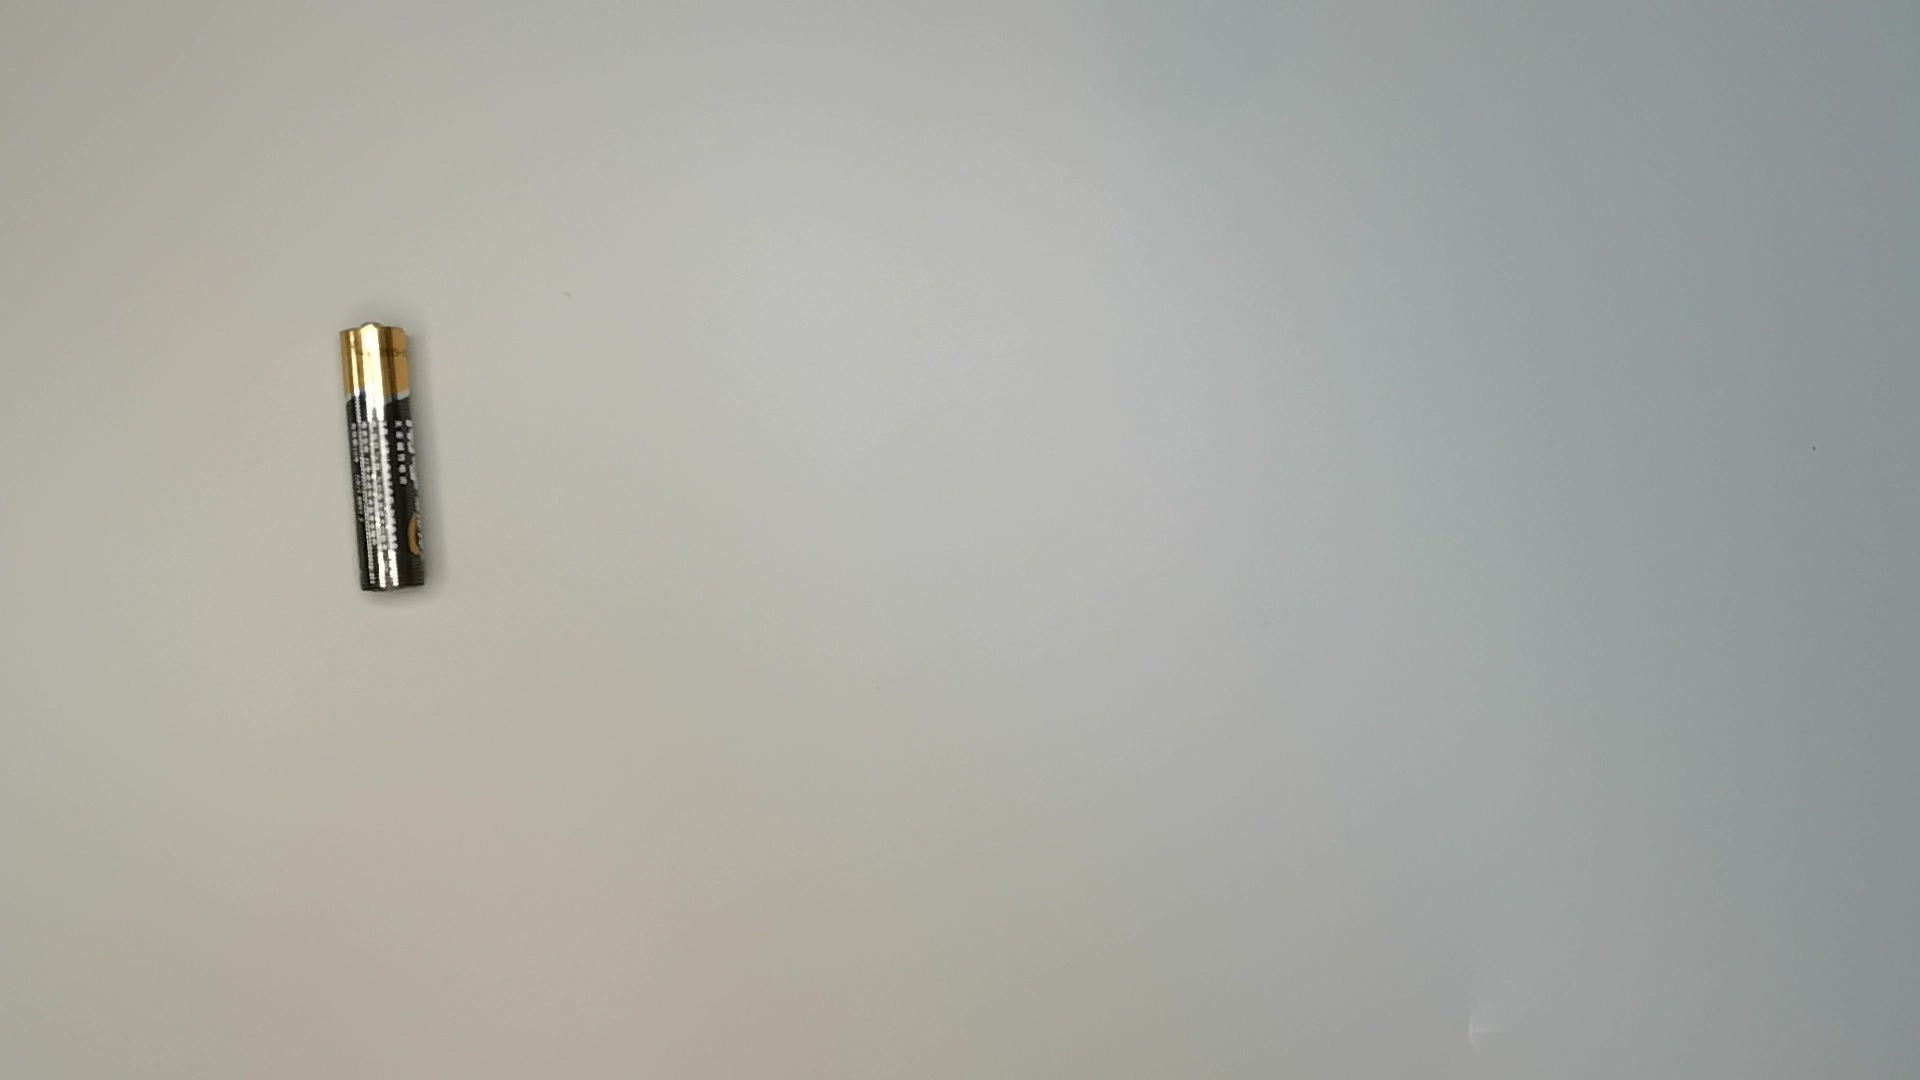battery: (334, 319, 440, 604)
